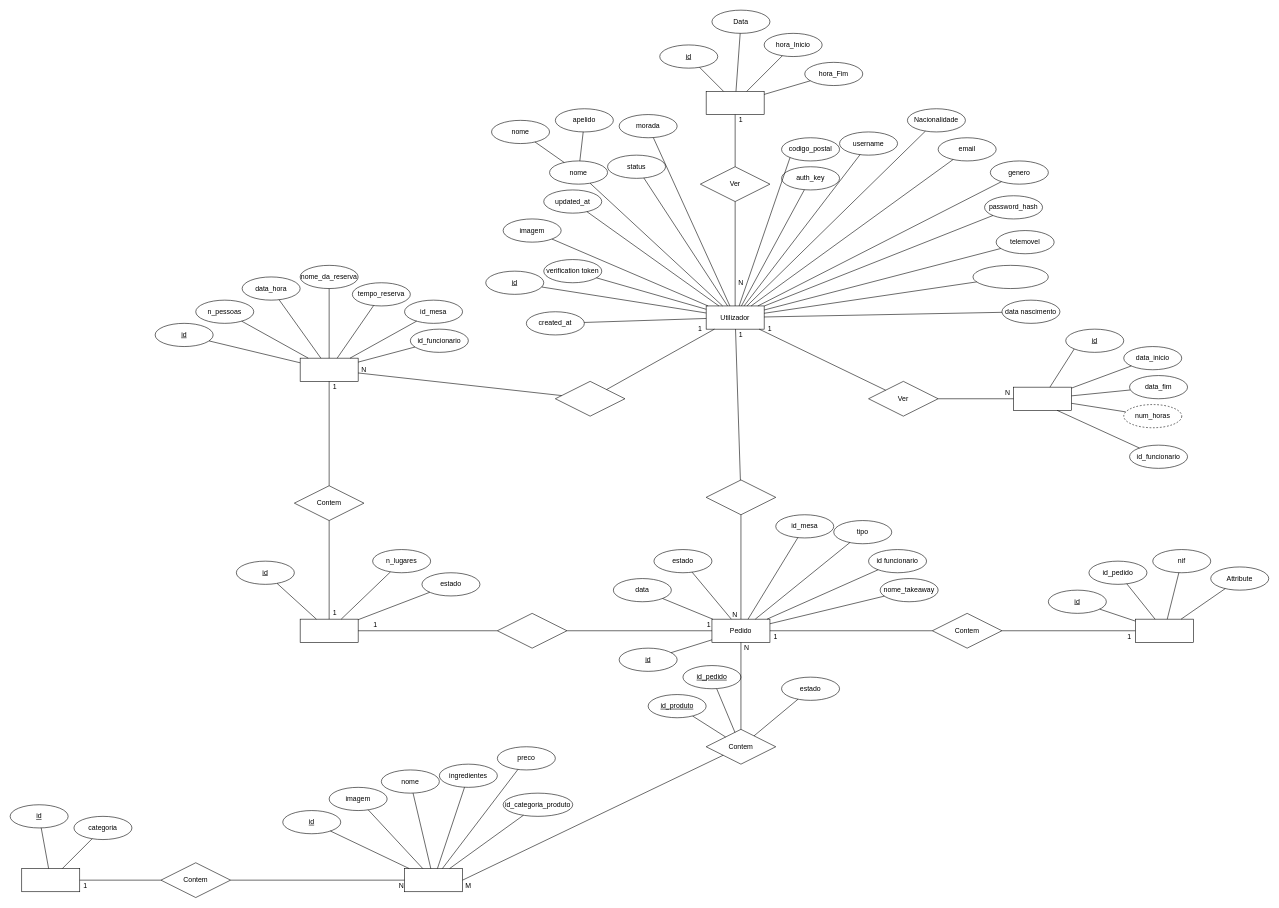
Image size: 1279x908. Some labels were removed from this diagram. Each missing label, with the box of its shape:
Categoria Produto: (21, 868, 80, 892)
Falta: (1013, 387, 1072, 410)
Fatura: (1135, 619, 1193, 642)
Horario: (706, 91, 764, 115)
Marcar: (555, 381, 625, 416)
Mesa: (300, 619, 358, 642)
password_reset_token: (972, 265, 1048, 289)
Possui: (497, 613, 567, 648)
Produto: (404, 868, 463, 892)
Registar: (706, 479, 776, 515)
Reserva: (300, 358, 358, 381)
